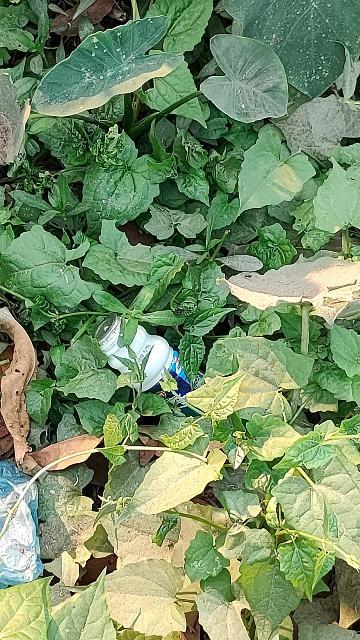bottle: (78, 305, 214, 416)
